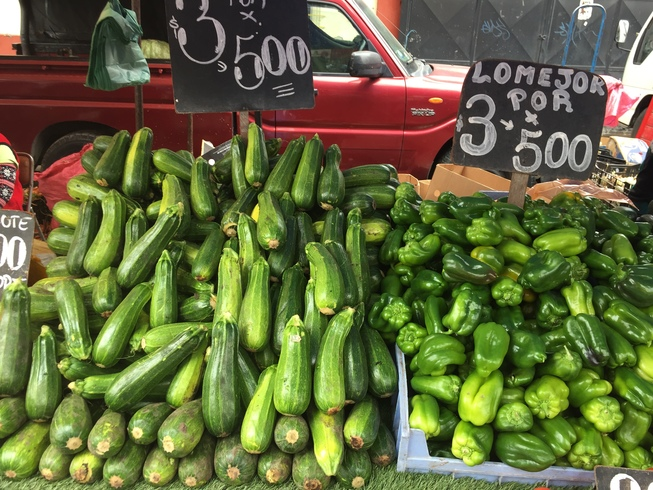precio: (444, 53, 611, 184), (155, 1, 321, 122), (1, 206, 45, 300)
